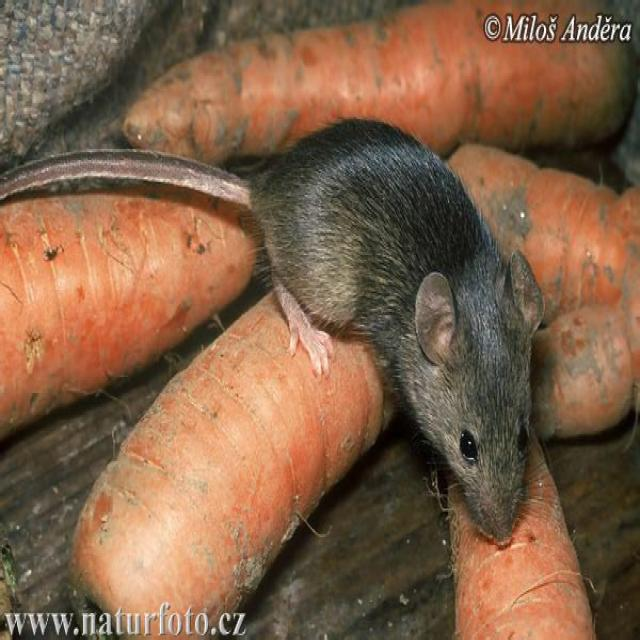rat: (226, 95, 551, 561)
